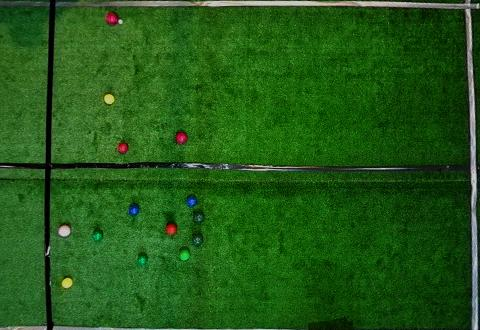blue: (186, 196, 197, 207), (129, 205, 139, 216)
green: (192, 234, 204, 245), (179, 249, 190, 261), (193, 212, 204, 223), (137, 254, 148, 265), (92, 230, 103, 241)
red: (58, 224, 71, 237), (106, 11, 118, 25), (165, 223, 177, 235), (175, 132, 187, 144), (118, 143, 129, 154)
vline: (1, 0, 56, 329), (463, 0, 479, 330)
white: (118, 19, 123, 24)
yellow: (61, 278, 73, 288), (104, 94, 114, 104)
